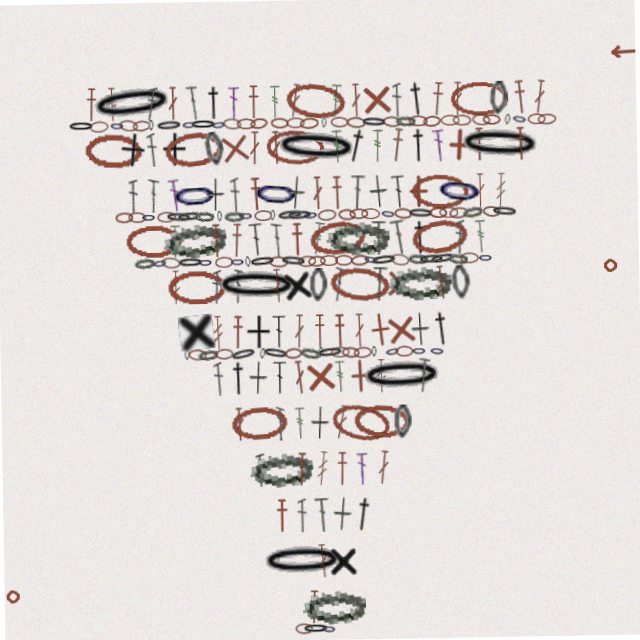chain: (92, 79, 180, 122), (276, 127, 363, 167), (460, 128, 546, 166), (358, 359, 444, 395), (327, 400, 392, 446), (256, 543, 341, 578), (215, 267, 300, 302), (163, 217, 230, 260), (246, 449, 312, 489), (411, 218, 472, 260), (288, 80, 350, 121), (309, 218, 370, 259), (329, 265, 391, 305), (297, 588, 362, 626), (166, 127, 227, 167), (389, 266, 453, 303), (268, 128, 329, 165), (328, 221, 391, 256), (351, 404, 410, 441), (229, 404, 287, 441), (413, 175, 471, 211), (87, 129, 145, 165), (168, 268, 226, 302), (454, 84, 512, 118), (437, 173, 487, 212), (127, 222, 184, 256), (254, 174, 303, 211), (173, 175, 221, 211), (206, 129, 229, 165), (451, 267, 472, 302), (493, 84, 512, 118), (392, 406, 410, 440), (310, 268, 328, 302), (229, 345, 257, 361), (261, 345, 289, 360), (430, 253, 458, 268), (371, 254, 399, 268), (278, 208, 306, 221), (316, 346, 343, 359), (250, 254, 277, 267), (281, 254, 308, 267), (178, 208, 205, 221), (493, 208, 520, 221), (419, 255, 446, 267), (167, 209, 194, 221), (288, 209, 315, 221), (409, 209, 436, 221), (159, 117, 186, 129), (364, 117, 391, 129), (464, 207, 485, 222), (297, 623, 324, 634), (178, 255, 205, 266), (71, 117, 98, 128), (193, 117, 220, 128), (197, 346, 218, 360), (299, 346, 320, 360), (391, 254, 411, 268), (135, 254, 156, 267), (162, 254, 182, 267), (122, 116, 142, 129), (484, 208, 503, 221), (226, 116, 245, 129), (253, 116, 272, 129), (475, 116, 494, 129), (449, 255, 469, 267), (226, 209, 246, 221), (319, 209, 339, 221), (270, 255, 289, 267), (451, 209, 470, 221), (93, 117, 112, 129), (303, 117, 322, 129), (350, 117, 369, 129), (386, 117, 405, 129), (426, 117, 445, 129), (541, 117, 560, 129), (409, 255, 429, 266), (196, 209, 216, 220), (399, 117, 419, 128), (188, 347, 206, 359), (284, 347, 302, 359), (341, 347, 359, 359), (353, 347, 371, 359), (299, 255, 317, 267), (309, 255, 327, 267), (352, 255, 370, 267), (340, 209, 358, 221), (396, 209, 414, 221), (136, 117, 154, 129), (330, 347, 349, 358), (461, 255, 480, 266), (159, 209, 178, 220), (351, 209, 370, 220), (363, 209, 382, 220), (441, 209, 460, 220), (240, 117, 259, 128), (412, 117, 431, 128), (444, 117, 463, 128), (456, 117, 475, 128), (384, 346, 400, 359), (153, 254, 169, 267), (364, 254, 380, 267), (515, 116, 531, 129), (290, 623, 308, 634), (215, 347, 233, 358), (395, 347, 413, 358), (216, 255, 234, 266), (321, 255, 339, 266), (336, 255, 354, 266), (117, 209, 135, 220), (130, 209, 148, 220), (256, 209, 274, 220), (431, 209, 449, 220), (274, 117, 292, 128), (290, 117, 308, 128), (334, 117, 352, 128), (486, 117, 504, 128), (531, 117, 549, 128), (382, 209, 398, 221), (214, 117, 230, 129), (316, 623, 331, 635), (429, 347, 444, 359), (305, 209, 320, 221), (411, 347, 426, 358), (199, 255, 214, 266), (231, 255, 246, 266), (479, 255, 494, 266), (143, 209, 158, 220), (240, 209, 255, 220), (113, 117, 128, 128), (185, 117, 200, 128), (259, 347, 265, 358), (317, 347, 323, 358), (246, 255, 252, 266), (508, 117, 514, 128), (184, 347, 189, 358), (371, 347, 376, 358), (219, 209, 224, 220), (272, 209, 277, 220), (152, 117, 157, 128), (325, 117, 330, 128)
double: (391, 221, 411, 256), (331, 405, 348, 440), (331, 267, 348, 302), (311, 498, 328, 532), (372, 268, 389, 302), (414, 359, 430, 394), (250, 221, 266, 256), (352, 176, 368, 210), (393, 176, 409, 210), (189, 83, 204, 118), (291, 83, 306, 118), (536, 83, 551, 118), (373, 222, 388, 256), (374, 451, 388, 486), (435, 267, 449, 302), (170, 175, 184, 210), (312, 544, 326, 578), (272, 360, 286, 394), (292, 360, 306, 394), (272, 314, 286, 348), (435, 130, 449, 164), (272, 268, 285, 302), (272, 222, 285, 256), (149, 176, 162, 210), (149, 130, 162, 164), (149, 84, 162, 118), (232, 406, 244, 440), (212, 360, 224, 394), (293, 314, 305, 348), (232, 268, 244, 302), (314, 176, 326, 210), (273, 130, 285, 164), (354, 84, 366, 118), (354, 452, 365, 486), (354, 314, 365, 348), (232, 176, 243, 210), (477, 176, 488, 210), (252, 130, 263, 164), (171, 84, 182, 118), (232, 84, 243, 118), (456, 84, 467, 118), (294, 498, 304, 532), (253, 452, 263, 486), (396, 84, 406, 118), (274, 406, 283, 440), (213, 268, 222, 302), (457, 222, 466, 256), (131, 176, 140, 210)
half_double: (346, 128, 373, 165), (348, 497, 372, 533), (431, 313, 452, 348), (410, 83, 431, 118), (228, 360, 247, 394), (412, 222, 431, 256), (412, 130, 431, 164), (208, 84, 227, 118), (392, 129, 409, 164), (516, 83, 532, 118), (434, 84, 449, 118), (302, 590, 316, 624), (292, 452, 306, 486), (211, 222, 225, 256), (231, 222, 245, 256), (251, 176, 265, 210), (517, 130, 531, 164), (88, 84, 102, 118), (272, 498, 285, 532), (333, 452, 346, 486), (231, 314, 244, 348), (313, 314, 326, 348), (333, 314, 346, 348), (292, 222, 305, 256), (333, 176, 346, 210), (476, 130, 489, 164), (251, 84, 264, 118)
noise: (613, 50, 640, 63), (603, 262, 620, 279), (0, 583, 17, 600)
single: (382, 312, 420, 350), (219, 128, 257, 166), (301, 358, 338, 395), (178, 312, 215, 349), (362, 312, 399, 349), (383, 267, 419, 303), (444, 129, 480, 165), (281, 266, 316, 303), (342, 359, 377, 394), (363, 83, 398, 118), (404, 176, 438, 210), (324, 544, 355, 578), (121, 129, 150, 165), (245, 314, 271, 348), (164, 130, 190, 164), (329, 497, 350, 532), (288, 175, 309, 210), (371, 175, 391, 210), (309, 406, 328, 440), (248, 360, 267, 394), (411, 314, 430, 348), (209, 176, 227, 210)
treble: (311, 221, 328, 256), (313, 451, 327, 486), (333, 84, 347, 118), (292, 406, 305, 440), (333, 360, 346, 394), (476, 222, 489, 256), (212, 314, 224, 348), (171, 222, 183, 256), (497, 176, 509, 210), (334, 130, 346, 164), (110, 84, 122, 118), (273, 84, 285, 118), (375, 360, 386, 394), (171, 268, 182, 302), (375, 130, 386, 164)
